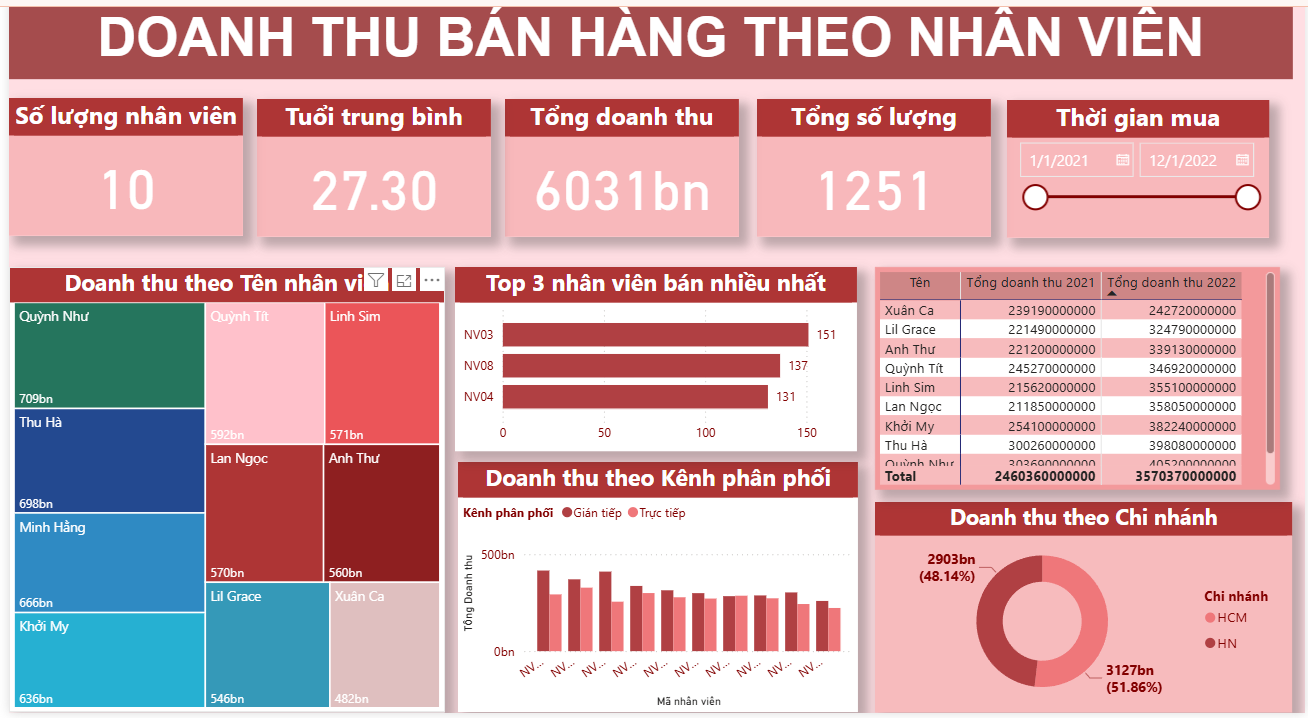

What the dashboard file says about the page in this screenshot:
{"tool":"powerbi","page":{"name":"DOANH THU BÁN HÀNG THEO NHÂN VIÊN","canvas":[1280,720],"ordinal":2},"visuals":[{"type":"textbox","box":[0,0,1267.7,94],"z":0},{"type":"card","title":"Số lượng nhân viên","fields":{"Values":["Count(Nhân viên.Tên )"]},"box":[0,112.2,231.4,136],"z":1000},{"type":"card","title":"Tổng số lượng","fields":{"Values":["Sum(Bán hàng.Số lượng)"]},"box":[739,113.6,231.4,136],"z":2000},{"type":"card","title":"Tổng doanh thu ","fields":{"Values":["Sum(Bán hàng.Doanh thu)"]},"box":[489.4,113.6,231.4,136],"z":3000},{"type":"card","title":"Tuổi trung bình ","fields":{"Values":["Nhân viên.Tuổi trung bình"]},"box":[245.4,113.6,231.4,136],"z":4000},{"type":"slicer","title":"Thời gian mua","fields":{"Values":["Date.Lịch mua"]},"box":[985.8,115,259.4,136],"z":5000},{"type":"treemap","title":"Doanh thu theo Tên nhân viên","fields":{"Group":["Nhân viên.Tên "],"Values":["Bán hàng.Tổng doanh thu"]},"box":[0,279.1,430.5,440.3],"z":6000},{"type":"clusteredColumnChart","title":"Doanh thu theo Kênh phân phối","fields":{"Category":["Nhân viên.Mã nhân viên"],"Y":["Sum(Bán hàng.Doanh thu)"],"Series":["Kênh phân phối.Kênh phân phối"]},"box":[443.1,472.6,395.4,246.8],"z":7000},{"type":"barChart","title":"Top 3 nhân viên bán nhiều nhất","fields":{"Y":["Sum(Bán hàng.Số lượng)"],"Category":["Nhân viên.Mã nhân viên"]},"box":[440.3,279.1,396.8,182.3],"z":8000},{"type":"donutChart","title":"Doanh thu theo Chi nhánh","fields":{"Y":["Sum(Bán hàng.Doanh thu)"],"Category":["Nhân viên.Chi nhánh"]},"box":[855.4,511.8,412.3,207.5],"z":9000},{"type":"pivotTable","fields":{"Values":["Bán hàng.Tổng doanh thu 2021","Bán hàng.Tổng doanh thu 2022"],"Rows":["Nhân viên.Tên "]},"box":[855.4,279.1,399.6,220.2],"z":10000}]}

Visuals, with their boxes in screenshot pixels (x1, y1, x2, y2), scaled from the page's 1280x720 canvas onto the 1308x718 screenshot:
textbox: crop(0, 0, 1295, 94)
"Số lượng nhân viên" card: crop(0, 112, 236, 248)
"Tổng số lượng" card: crop(755, 113, 992, 249)
"Tổng doanh thu " card: crop(500, 113, 737, 249)
"Tuổi trung bình " card: crop(251, 113, 487, 249)
"Thời gian mua" slicer: crop(1007, 115, 1272, 250)
"Doanh thu theo Tên nhân viên" treemap: crop(0, 278, 440, 717)
"Doanh thu theo Kênh phân phối" clusteredColumnChart: crop(453, 471, 857, 717)
"Top 3 nhân viên bán nhiều nhất" barChart: crop(450, 278, 855, 460)
"Doanh thu theo Chi nhánh" donutChart: crop(874, 510, 1295, 717)
pivotTable - Bán hàng.Tổng doanh thu 2021 x Bán hàng.Tổng doanh thu 2022: crop(874, 278, 1282, 498)
